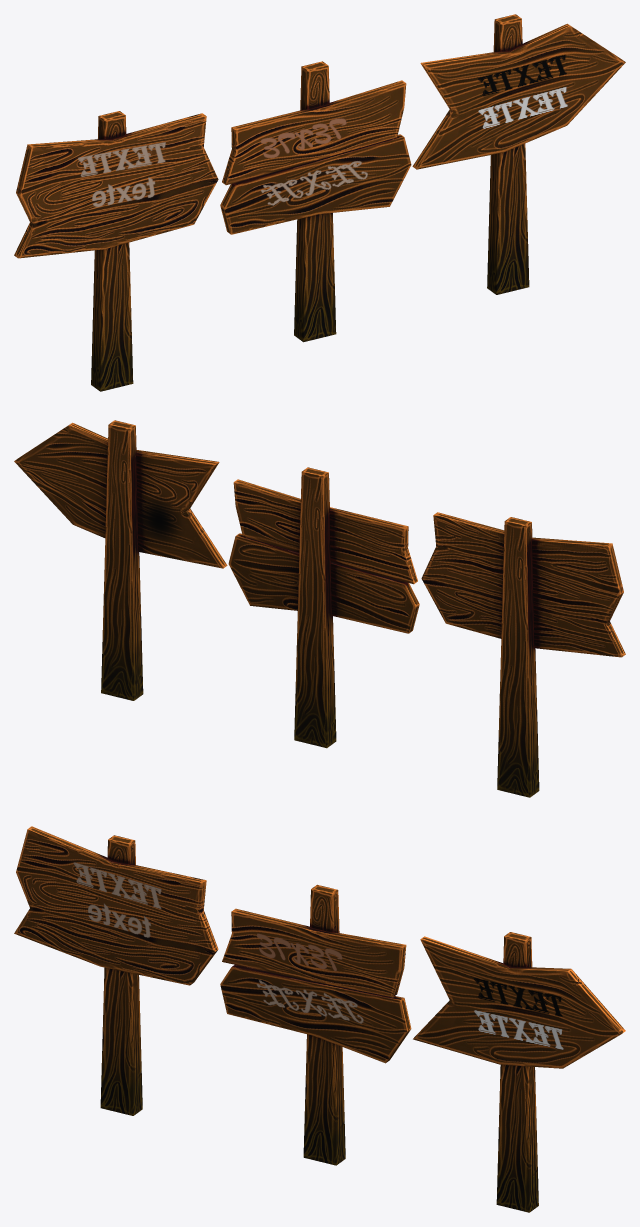
The model's file is panneau.glb.
The picture shows the model from 3 angles, top to bottom: view 1: azimuth 30°, elevation 25°; view 2: azimuth 150°, elevation 25°; view 3: azimuth 330°, elevation 25°; orthographic projection.
Visible parts, largest first — view 1: sign1, sign2, sign3; view 2: sign1, sign2, sign3; view 3: sign1, sign2, sign3.
Part boxes in pixels (box(x1,y1,x2,y2)): sign1: box(14, 111, 218, 391); sign2: box(220, 61, 411, 342); sign3: box(412, 14, 625, 294); sign1: box(421, 512, 625, 797); sign2: box(228, 467, 419, 748); sign3: box(14, 420, 227, 700); sign1: box(14, 826, 218, 1115); sign2: box(220, 884, 411, 1165); sign3: box(413, 932, 625, 1212).
Size of the model in its own units: 4.06 by 1.72 by 0.1344.
1 material, 1 textured.
